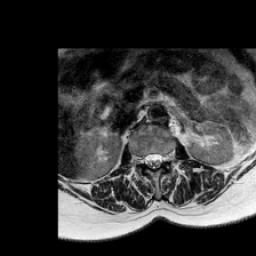CCS_normal: (150, 145, 156, 177)
LFS_normal: (163, 147, 170, 167)
LLS_normal: (156, 145, 163, 173)
RFS_normal: (136, 146, 143, 171)
RLS_normal: (143, 147, 150, 173)
